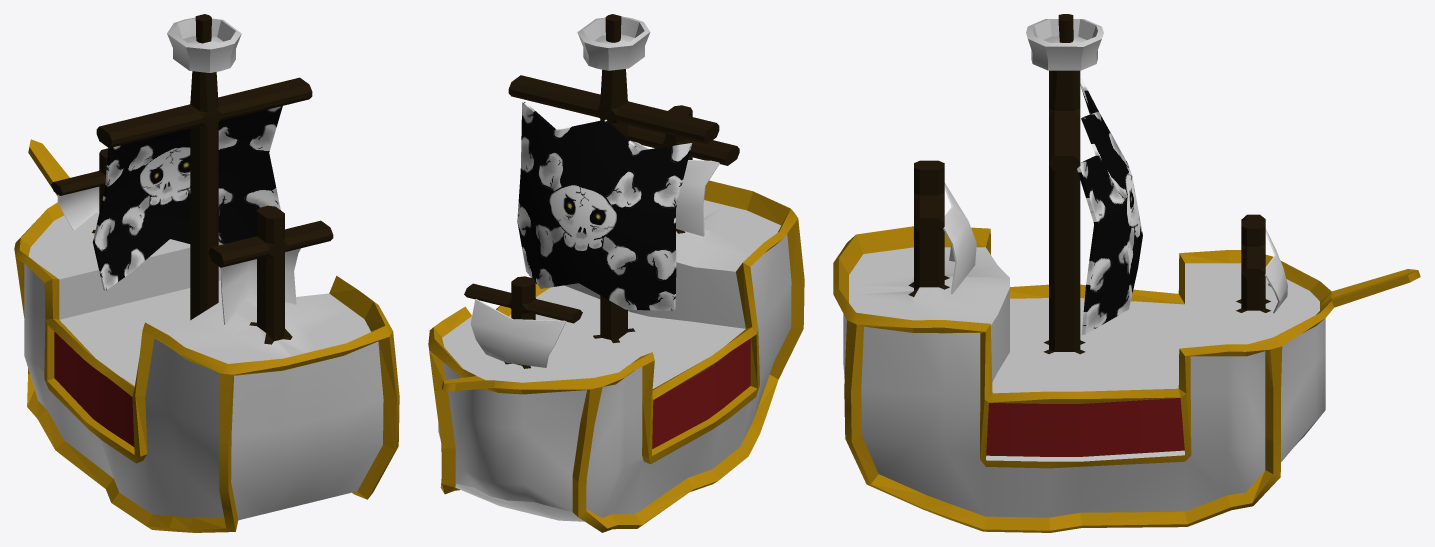
Rendered from ship_02.FBX.
The picture shows the model from 3 angles, left to right: view 1: azimuth 30°, elevation 25°; view 2: azimuth 150°, elevation 25°; view 3: azimuth 270°, elevation 25°; orthographic projection. The views are drawn at different scales.
Parts seen in each view (by area): view 1: Ship, main-sail, back-sail, front-sail; view 2: Ship, main-sail, front-sail, back-sail; view 3: Ship, main-sail, back-sail, front-sail.
Part boxes in pixels (left/top/right/bottom): Ship: left=14, top=14, right=399, bottom=532; main-sail: left=92, top=106, right=282, bottom=290; back-sail: left=220, top=248, right=300, bottom=324; front-sail: left=57, top=186, right=99, bottom=230; Ship: left=428, top=14, right=804, bottom=532; main-sail: left=517, top=101, right=692, bottom=310; front-sail: left=470, top=299, right=566, bottom=367; back-sail: left=631, top=141, right=719, bottom=236; Ship: left=833, top=14, right=1420, bottom=532; main-sail: left=1077, top=78, right=1142, bottom=334; back-sail: left=943, top=182, right=976, bottom=294; front-sail: left=1265, top=229, right=1287, bottom=313.
Bounding box in the file's own units: 7.42 × 14.51 × 16.48.
